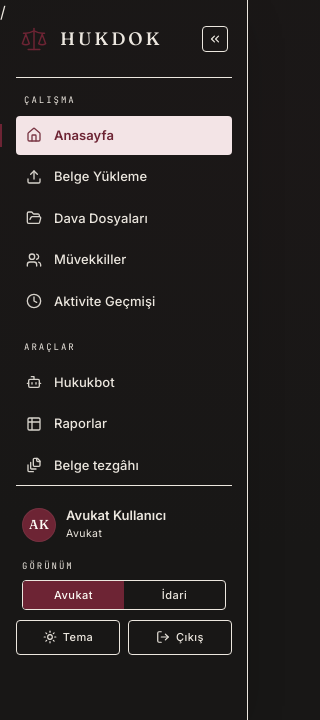
Test: Sidebar Hukukbot öğesi › yönetici olmayan kullanıcıda da görünür ve /hukukbot'a gider
What coordinates should you click on to do the following:
click the button "Hukukbot"
I would click on:
 (124, 382)
Its box is x1=16 y1=362 x2=232 y2=402.
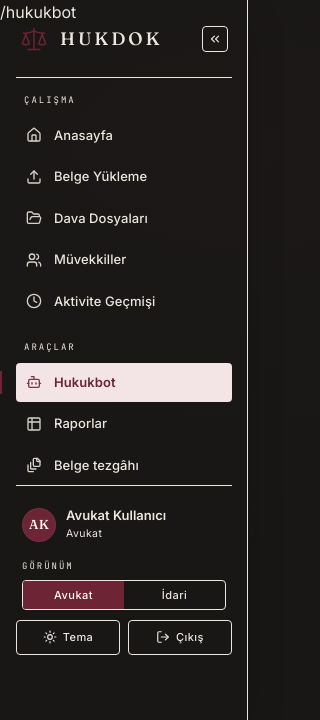
Result: the text with test id "konum" reads "/hukukbot" at x1=0 y1=2 x2=76 y2=22
